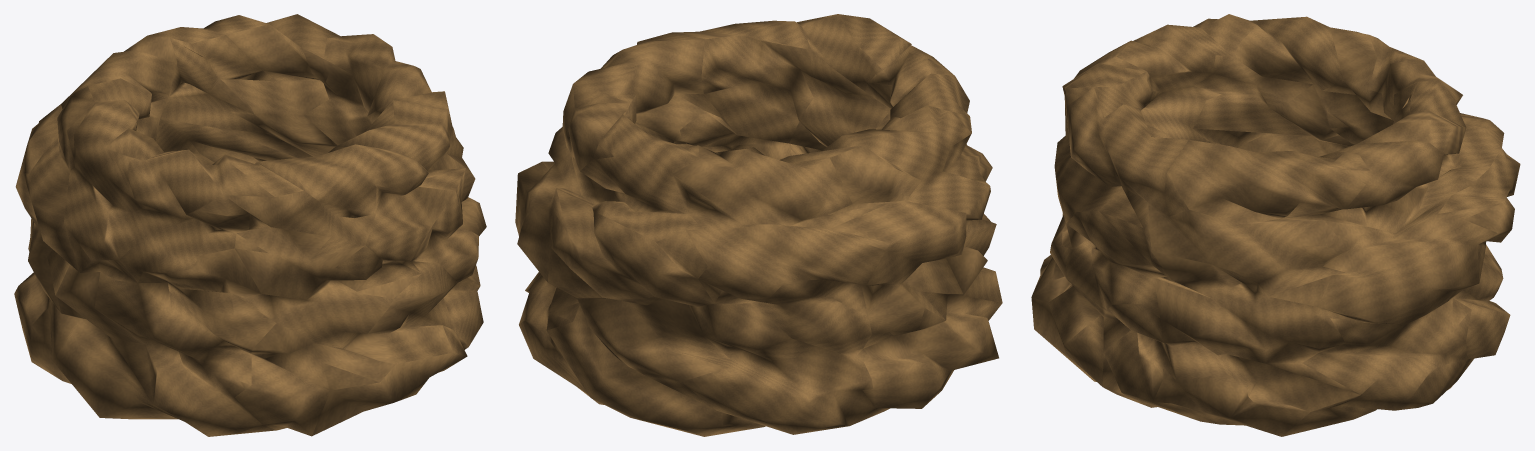
The model's file is rope_coil_tall.glb.
3 renders of one model, left to right at view 1: azimuth 30°, elevation 25°; view 2: azimuth 150°, elevation 25°; view 3: azimuth 270°, elevation 25°, orthographic.
Parts seen in each view (by area): view 1: tripo_node_180a1c71-05f4-44ec-89f5-79fe5f1128d7; view 2: tripo_node_180a1c71-05f4-44ec-89f5-79fe5f1128d7; view 3: tripo_node_180a1c71-05f4-44ec-89f5-79fe5f1128d7.
Boxes of the visible parts, left/top/right/bottom form: tripo_node_180a1c71-05f4-44ec-89f5-79fe5f1128d7: left=14, top=14, right=486, bottom=436; tripo_node_180a1c71-05f4-44ec-89f5-79fe5f1128d7: left=515, top=14, right=1002, bottom=436; tripo_node_180a1c71-05f4-44ec-89f5-79fe5f1128d7: left=1031, top=14, right=1520, bottom=436.
Bounding box in the file's own units: 0.9864 × 0.6147 × 1.
1 material, 1 textured.
